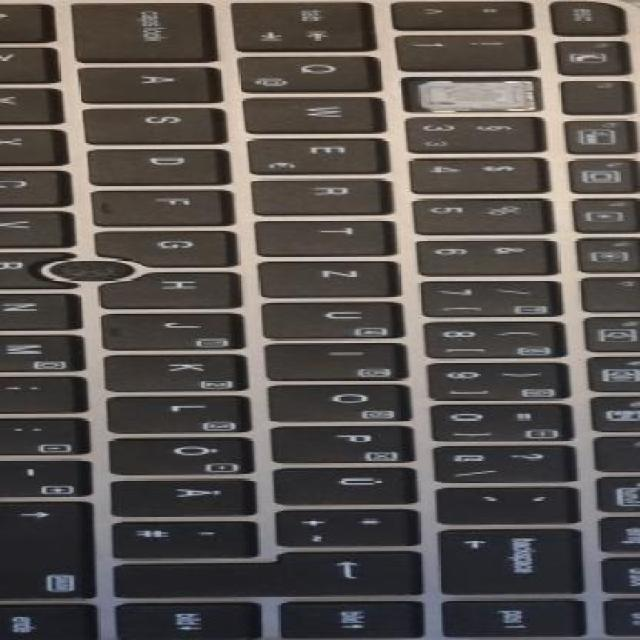Keyboard problems: (405, 77, 542, 111)
